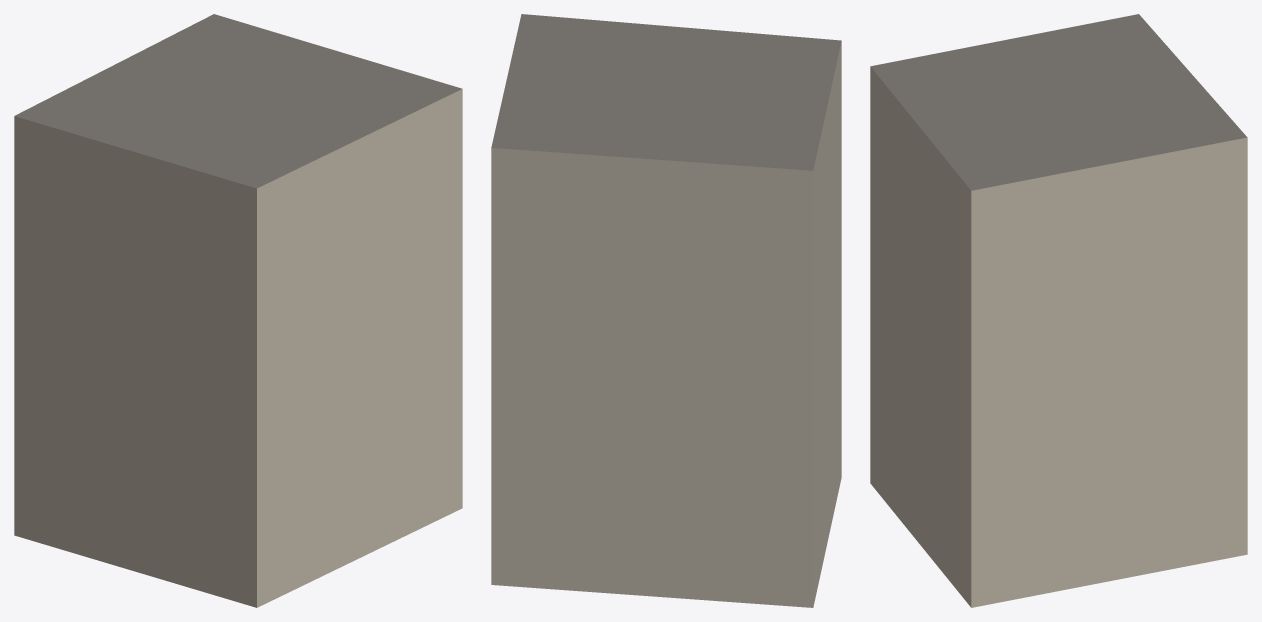
The picture shows the model from 3 angles, left to right: view 1: azimuth 30°, elevation 25°; view 2: azimuth 150°, elevation 25°; view 3: azimuth 270°, elevation 25°; orthographic projection. The views are drawn at different scales.
Visible parts, largest first — view 1: HP-w505659417; view 2: HP-w505659417; view 3: HP-w505659417.
Part boxes in pixels (box(x1,y1,x2,y2)): HP-w505659417: box(14, 14, 462, 607); HP-w505659417: box(491, 14, 841, 607); HP-w505659417: box(870, 14, 1247, 607).
Size of the model in its own units: 16.36 by 18 by 14.75.
